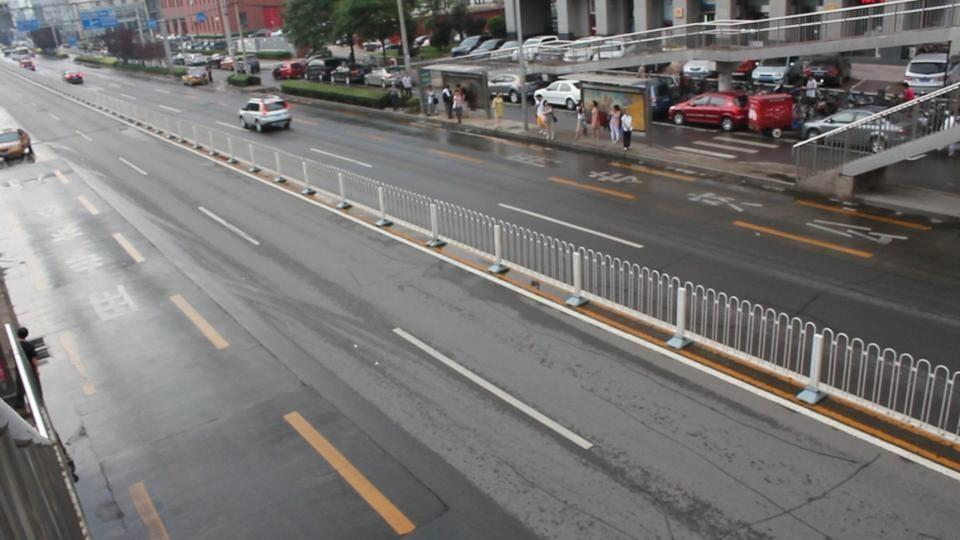car: (797, 107, 907, 151), (667, 92, 752, 131), (766, 56, 845, 88), (903, 53, 957, 92), (238, 95, 293, 132), (489, 73, 551, 105), (752, 55, 804, 89), (519, 35, 574, 65), (450, 35, 515, 59), (535, 79, 581, 111), (0, 125, 34, 165), (329, 64, 368, 86), (681, 60, 718, 82), (273, 58, 309, 80), (182, 67, 212, 87), (63, 70, 85, 84), (18, 56, 37, 71)
